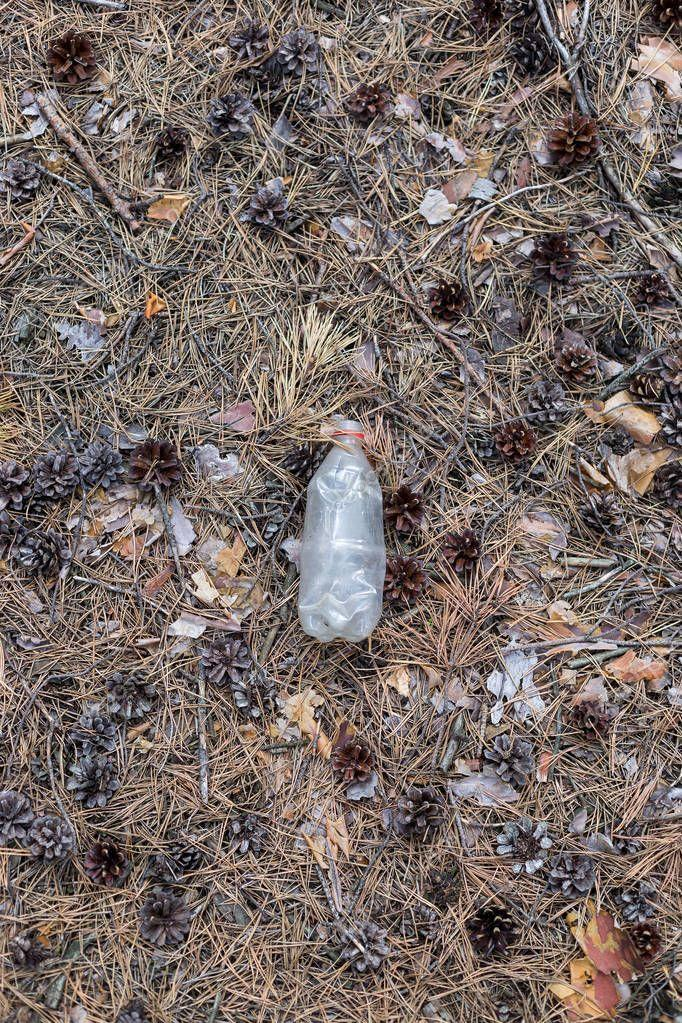bottle: (246, 406, 424, 682)
